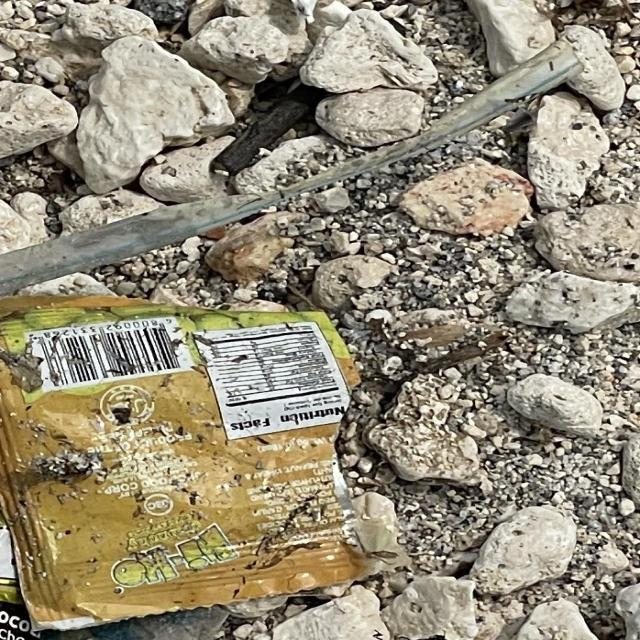plastic_waste: (1, 301, 387, 630)
